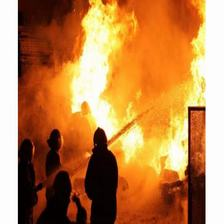fire: (65, 4, 163, 144), (152, 4, 205, 174)
